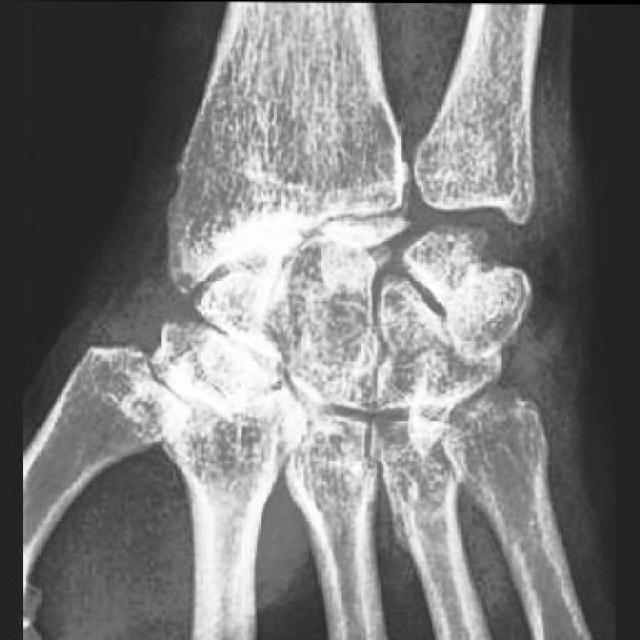Fracture: (312, 211, 403, 286)
